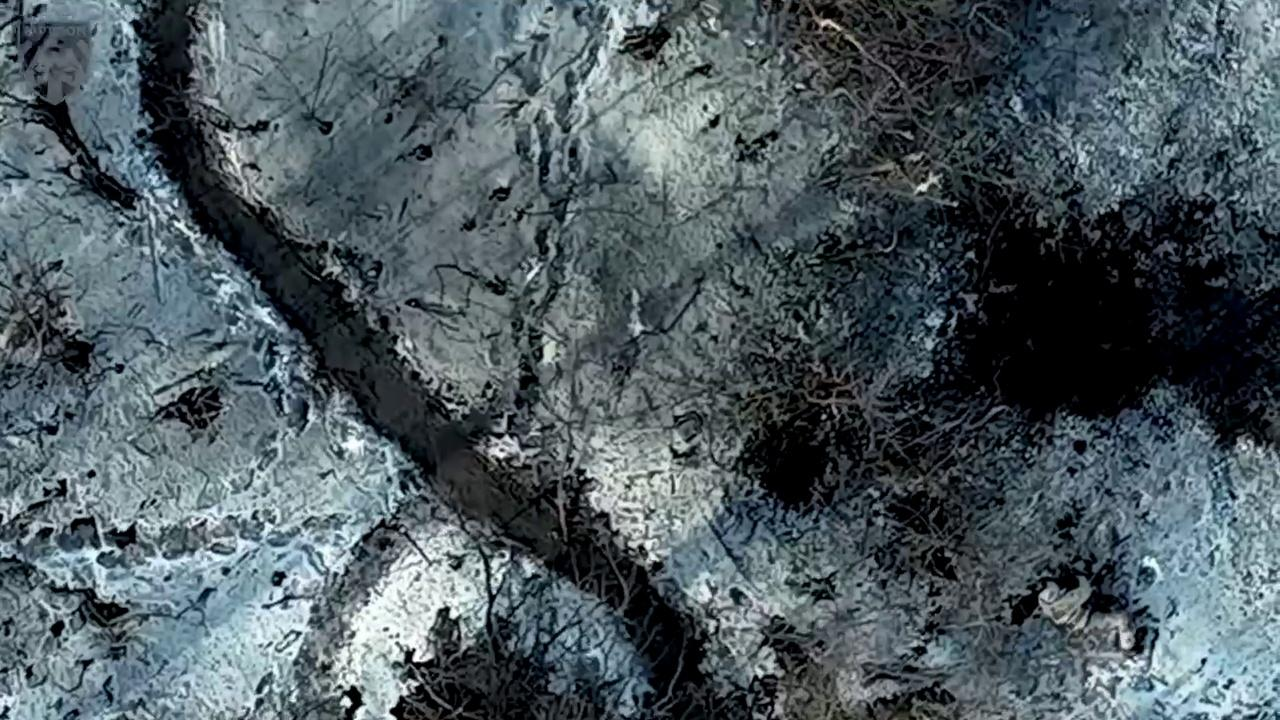person: (1035, 573, 1137, 649)
